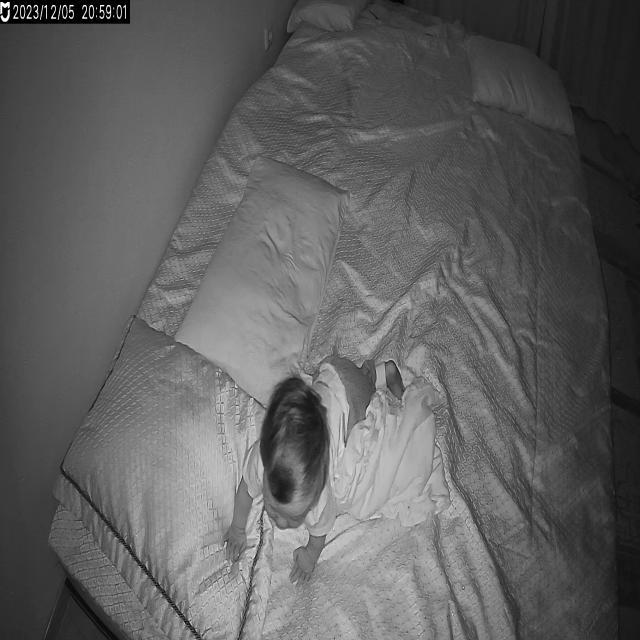baby: (223, 350, 406, 588)
